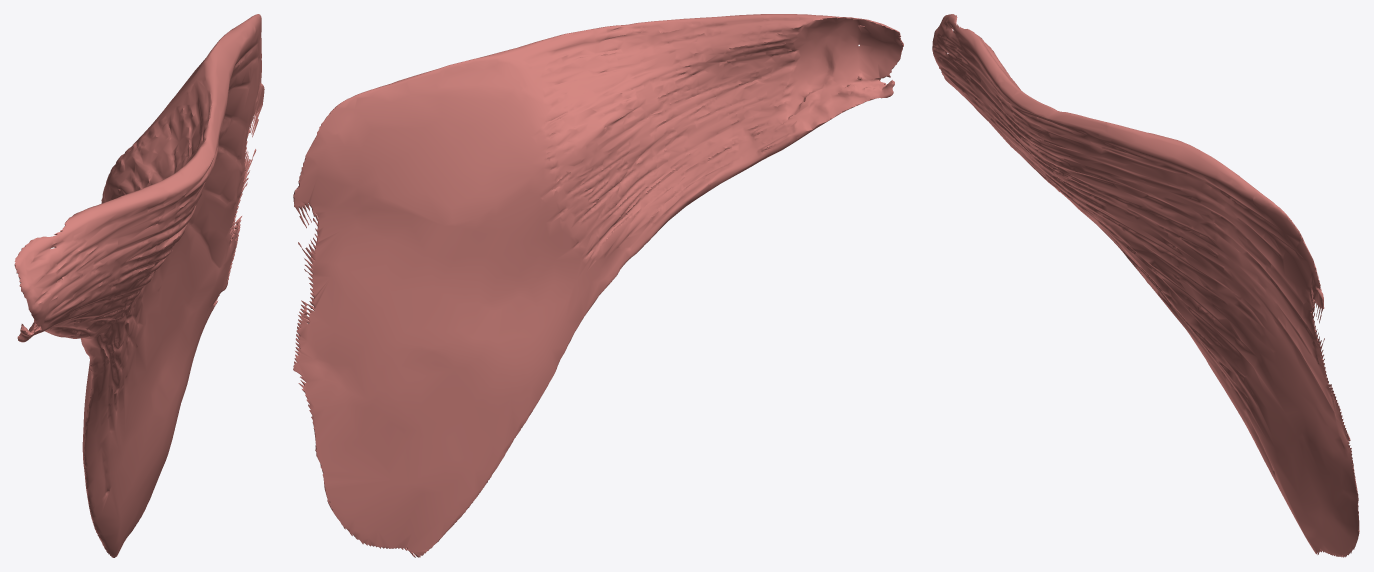
File: fma13414.glb
3 renders of one model, left to right at view 1: azimuth 30°, elevation 25°; view 2: azimuth 150°, elevation 25°; view 3: azimuth 270°, elevation 25°, orthographic. The views are drawn at different scales.
Parts seen in each view (by area): view 1: FMA13414; view 2: FMA13414; view 3: FMA13414.
Boxes of the visible parts, x1=… form: FMA13414: x1=14, y1=14, x2=264, y2=557; FMA13414: x1=293, y1=14, x2=903, y2=557; FMA13414: x1=932, y1=14, x2=1359, y2=557.
Size of the model in its own units: 0.1017 by 0.1111 by 0.1016.
